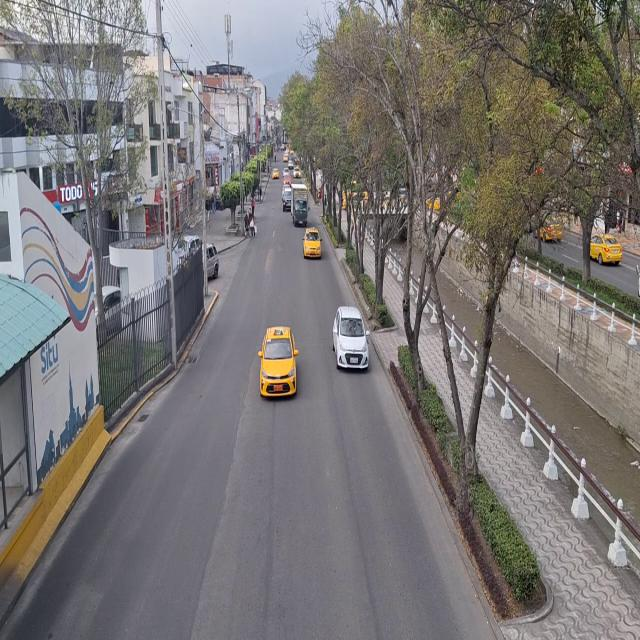SED: (261, 328, 297, 396), (334, 310, 368, 372)
